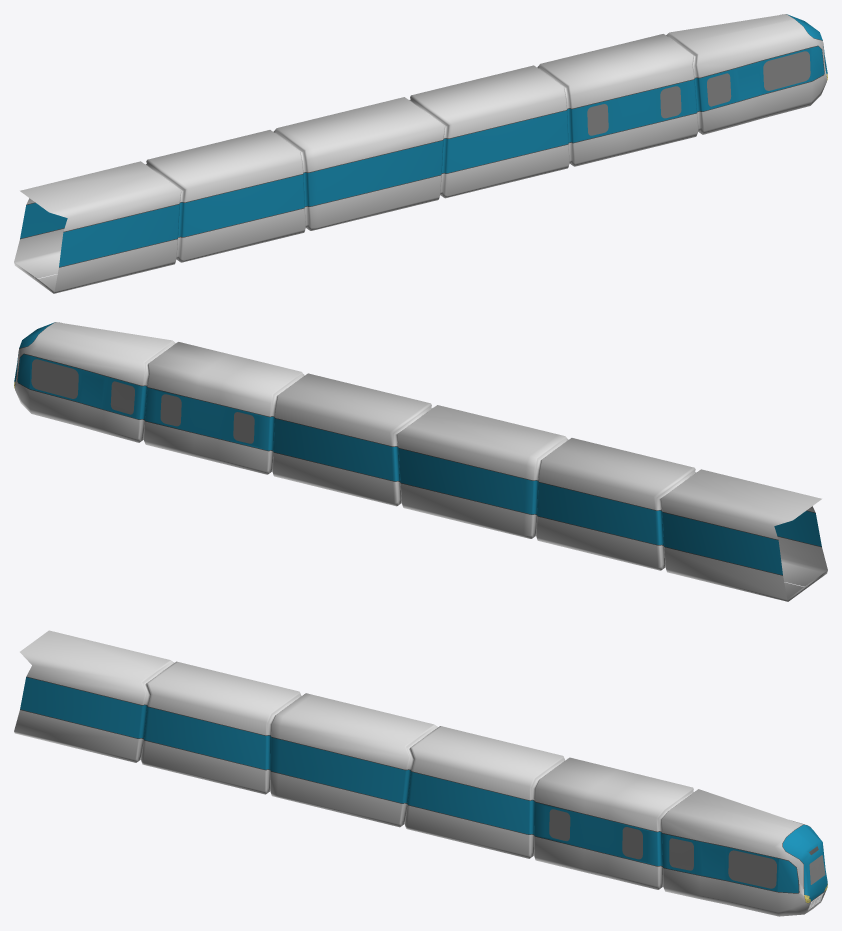
Rendered from Tren Argentino.fbx.
3 views of the same model, one above another, from view 1: azimuth 30°, elevation 25°; view 2: azimuth 150°, elevation 25°; view 3: azimuth 330°, elevation 25° (orthographic).
Visible parts, largest first — view 1: Cube; view 2: Cube; view 3: Cube.
Part boxes in pixels (bbox=[...]): Cube: bbox=[14, 14, 827, 293]; Cube: bbox=[14, 322, 827, 601]; Cube: bbox=[14, 630, 827, 916].
Size of the model in its own units: 2103 by 200 by 189.
